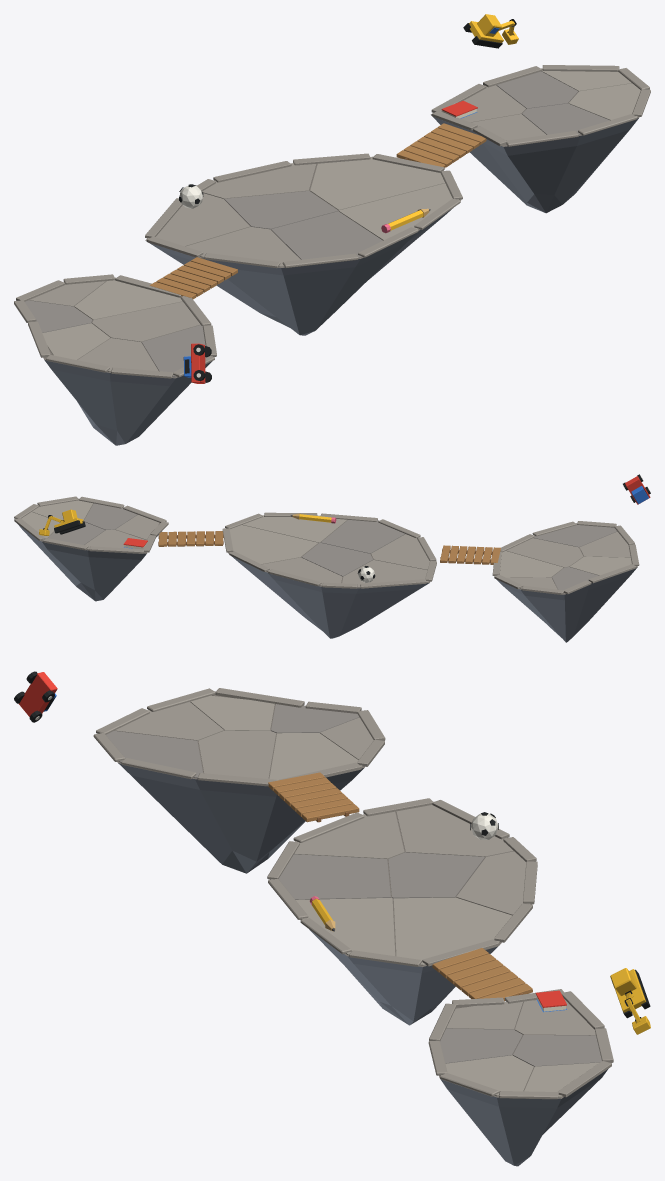
File: Fase1_reformulada.fbx
3 views of the same model, one above another, from view 1: azimuth 30°, elevation 25°; view 2: azimuth 150°, elevation 25°; view 3: azimuth 270°, elevation 25° (orthographic). The views are drawn at different scales.
Parts seen in each view (by area): view 1: F1_Ilha_Principal, F1_Ilha_Secundaria_B, F1_Ilha_Secundaria_A; view 2: F1_Ilha_Principal, F1_Ilha_Secundaria_B, F1_Ilha_Secundaria_A; view 3: F1_Ilha_Principal, F1_Ilha_Secundaria_B, F1_Ilha_Secundaria_A, F1_Decoracao_Carrinho_Carroceria.
Part boxes in pixels (left/top/right/bottom): F1_Ilha_Principal: left=145, top=153, right=462, bottom=335; F1_Ilha_Secundaria_B: left=14, top=274, right=216, bottom=445; F1_Ilha_Secundaria_A: left=431, top=65, right=650, bottom=213; F1_Ilha_Principal: left=222, top=512, right=436, bottom=638; F1_Ilha_Secundaria_B: left=492, top=521, right=639, bottom=642; F1_Ilha_Secundaria_A: left=14, top=496, right=168, bottom=601; F1_Ilha_Principal: left=267, top=798, right=537, bottom=1025; F1_Ilha_Secundaria_B: left=93, top=688, right=385, bottom=873; F1_Ilha_Secundaria_A: left=428, top=989, right=613, bottom=1166; F1_Decoracao_Carrinho_Carroceria: left=19, top=672, right=57, bottom=716.
Bounding box in the file's own units: 6950 × 1674 × 4577.
